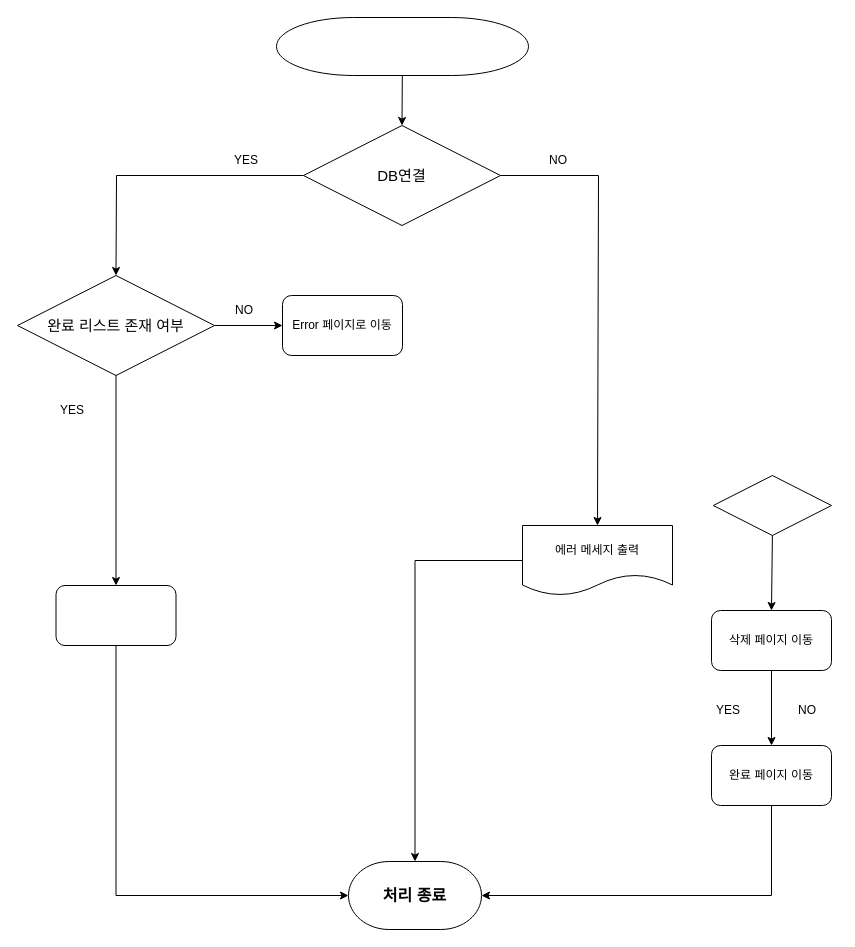
Image size: 855x947. Some labels were removed from this diagram. Each missing label, with the centre of its shape:
complete (list) 페이지 시작: the point at 402,46
삭제 버튼: the point at 772,505
완료 리스트 출력: the point at 115,615
